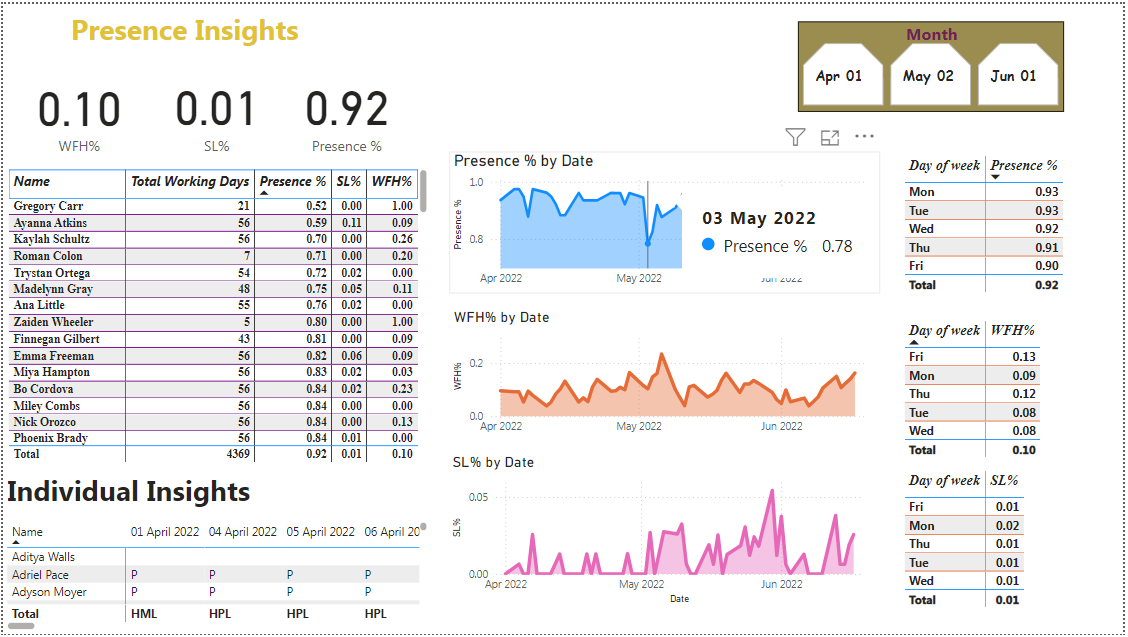

The page's visual inventory and layout, read from the dashboard file:
{"tool":"powerbi","page":{"name":"Page 1","canvas":[1280,720],"ordinal":0},"visuals":[{"type":"card","fields":{"Values":["MeasureTable.Presence %"]},"box":[328.9,68,129,109.8],"z":0},{"type":"advancedSlicerVisual","fields":{"Values":["Attendance Sheet 2022-2023_Masked xlsx.Month"]},"box":[898.6,0,282.9,102.9],"z":1000},{"type":"card","fields":{"Values":["MeasureTable.WFH%"]},"box":[21.5,62.5,131.7,122.1],"z":2000},{"type":"card","fields":{"Values":["MeasureTable.SL%"]},"box":[175.2,61.1,137.2,123.5],"z":3000},{"type":"tableEx","fields":{"Values":["Attendance Sheet 2022-2023_Masked xlsx.Name","MeasureTable.Total Working Days","MeasureTable.Presence %","MeasureTable.SL%","MeasureTable.WFH%"]},"box":[0,184.3,490,344.3],"z":4000},{"type":"textbox","box":[0,1.4,415.7,61.4],"z":5000},{"type":"pivotTable","fields":{"Rows":["Attendance Sheet 2022-2023_Masked xlsx.Name"],"Values":["Attendance Sheet 2022-2023_Masked xlsx.Value"],"Columns":["Attendance Sheet 2022-2023_Masked xlsx.Date"]},"box":[0,587.1,490,132.9],"z":6000},{"type":"stackedAreaChart","fields":{"Y":["MeasureTable.Presence %"],"Category":["Attendance Sheet 2022-2023_Masked xlsx.Date"]},"box":[510,122.9,492.9,162.9],"z":7000},{"type":"stackedAreaChart","fields":{"Category":["Attendance Sheet 2022-2023_Masked xlsx.Date"],"Y":["MeasureTable.WFH%"]},"box":[508.6,314.3,492.9,154.3],"z":8000},{"type":"stackedAreaChart","fields":{"Category":["Attendance Sheet 2022-2023_Masked xlsx.Date"],"Y":["MeasureTable.SL%"]},"box":[508.6,512.9,492.9,178.6],"z":9000},{"type":"textbox","box":[0,528.6,291.4,58.6],"z":10000},{"type":"tableEx","fields":{"Values":["Attendance Sheet 2022-2023_Masked xlsx.Day of week","MeasureTable.Presence %"]},"box":[1024.3,168.6,201.4,191.4],"z":11000},{"type":"tableEx","fields":{"Values":["Attendance Sheet 2022-2023_Masked xlsx.Day of week","MeasureTable.WFH%"]},"box":[1024.3,357.1,188.6,191.4],"z":12000},{"type":"tableEx","fields":{"Values":["Attendance Sheet 2022-2023_Masked xlsx.Day of week","MeasureTable.SL%"]},"box":[1024.3,528.6,201.4,191.4],"z":13000}]}

Visuals, with their boxes in screenshot pixels (x1, y1, x2, y2), scaled from the page's 1280x720 canvas onto the 1128x637 screenshot:
card - MeasureTable.Presence %: [290,60,404,157]
advancedSlicerVisual - Attendance Sheet 2022-2023_Masked xlsx.Month: [792,0,1041,91]
card - MeasureTable.WFH%: [19,55,135,163]
card - MeasureTable.SL%: [154,54,275,163]
tableEx - Attendance Sheet 2022-2023_Masked xlsx.Name x MeasureTable.Total Working Days: [0,163,432,468]
textbox: [0,1,366,56]
pivotTable - Attendance Sheet 2022-2023_Masked xlsx.Name x Attendance Sheet 2022-2023_Masked xlsx.Value: [0,519,432,636]
stackedAreaChart - MeasureTable.Presence % x Attendance Sheet 2022-2023_Masked xlsx.Date: [449,109,884,253]
stackedAreaChart - Attendance Sheet 2022-2023_Masked xlsx.Date x MeasureTable.WFH%: [448,278,883,415]
stackedAreaChart - Attendance Sheet 2022-2023_Masked xlsx.Date x MeasureTable.SL%: [448,454,883,612]
textbox: [0,468,257,520]
tableEx - Attendance Sheet 2022-2023_Masked xlsx.Day of week x MeasureTable.Presence %: [903,149,1080,318]
tableEx - Attendance Sheet 2022-2023_Masked xlsx.Day of week x MeasureTable.WFH%: [903,316,1069,485]
tableEx - Attendance Sheet 2022-2023_Masked xlsx.Day of week x MeasureTable.SL%: [903,468,1080,636]
